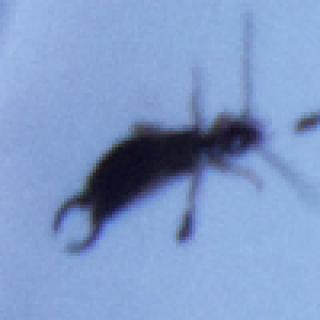earwig: (49, 10, 312, 258)
